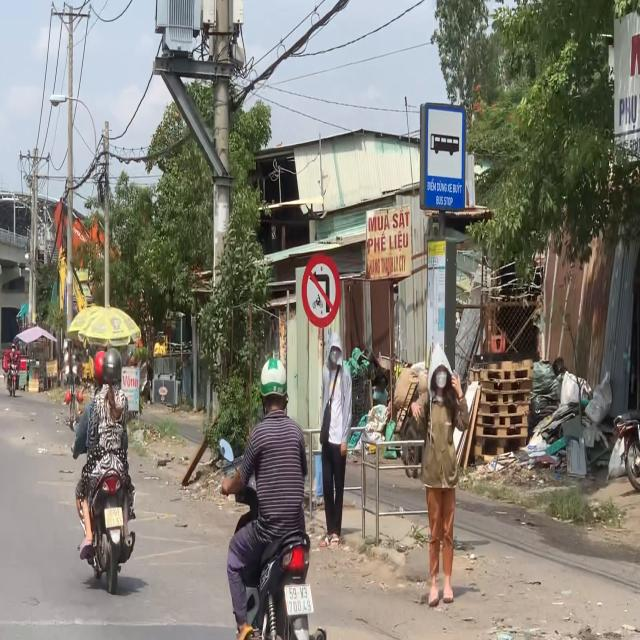Ben xe buyt: (422, 100, 468, 217)
Cam re trai: (300, 250, 344, 332)
